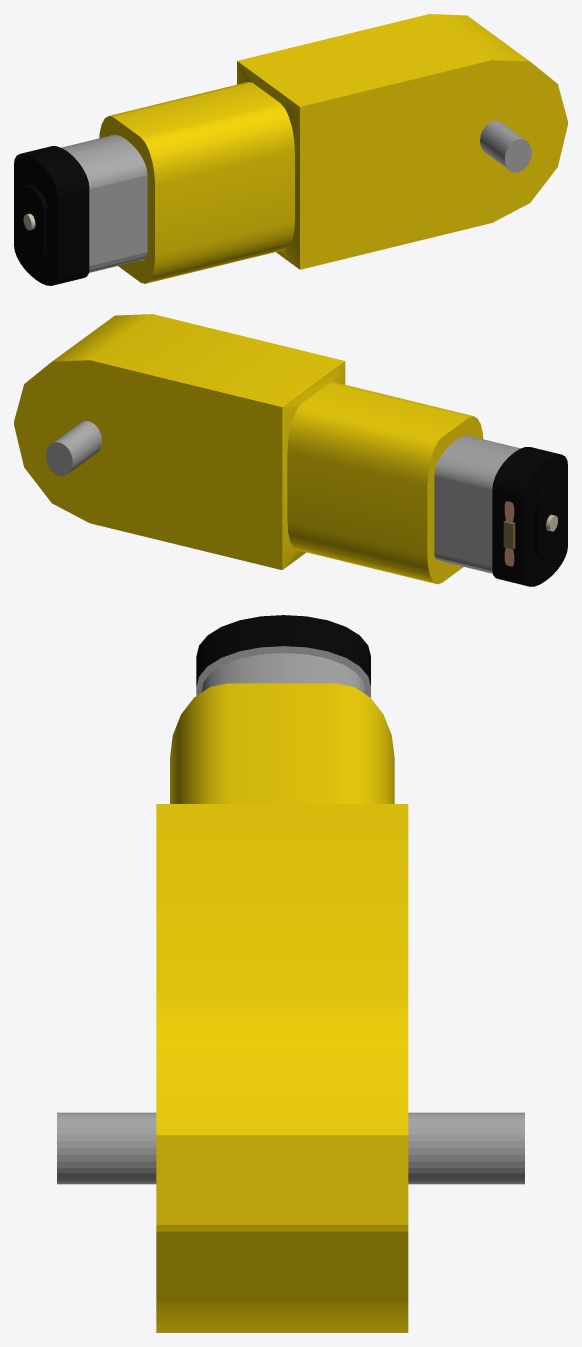
File: motor-tt.glb
3 views of the same model, one above another, from view 1: azimuth 30°, elevation 25°; view 2: azimuth 150°, elevation 25°; view 3: azimuth 270°, elevation 25° (orthographic). The views are drawn at different scales.
Parts seen in each view (by area): view 1: YellowGearedMotor_YellowPlastic_0, YellowGearedMotor_stainless steel_0, YellowGearedMotor_BlackPlastic_0; view 2: YellowGearedMotor_YellowPlastic_0, YellowGearedMotor_stainless steel_0, YellowGearedMotor_BlackPlastic_0, YellowGearedMotor_CopperContacts_0, YellowGearedMotor_BrownEpoxy_0; view 3: YellowGearedMotor_YellowPlastic_0, YellowGearedMotor_stainless steel_0, YellowGearedMotor_BlackPlastic_0.
Part boxes in pixels (bbox=[...]): YellowGearedMotor_YellowPlastic_0: bbox=[99, 14, 567, 283]; YellowGearedMotor_stainless steel_0: bbox=[61, 120, 531, 272]; YellowGearedMotor_BlackPlastic_0: bbox=[14, 146, 89, 285]; YellowGearedMotor_YellowPlastic_0: bbox=[14, 314, 483, 584]; YellowGearedMotor_stainless steel_0: bbox=[46, 421, 520, 573]; YellowGearedMotor_BlackPlastic_0: bbox=[492, 447, 567, 586]; YellowGearedMotor_CopperContacts_0: bbox=[504, 501, 514, 566]; YellowGearedMotor_BrownEpoxy_0: bbox=[503, 520, 515, 549]; YellowGearedMotor_YellowPlastic_0: bbox=[156, 683, 408, 1332]; YellowGearedMotor_stainless steel_0: bbox=[57, 646, 524, 1184]; YellowGearedMotor_BlackPlastic_0: bbox=[196, 615, 370, 686].
Size of the model in its own units: 0.0646 by 0.0198 by 0.0258.
